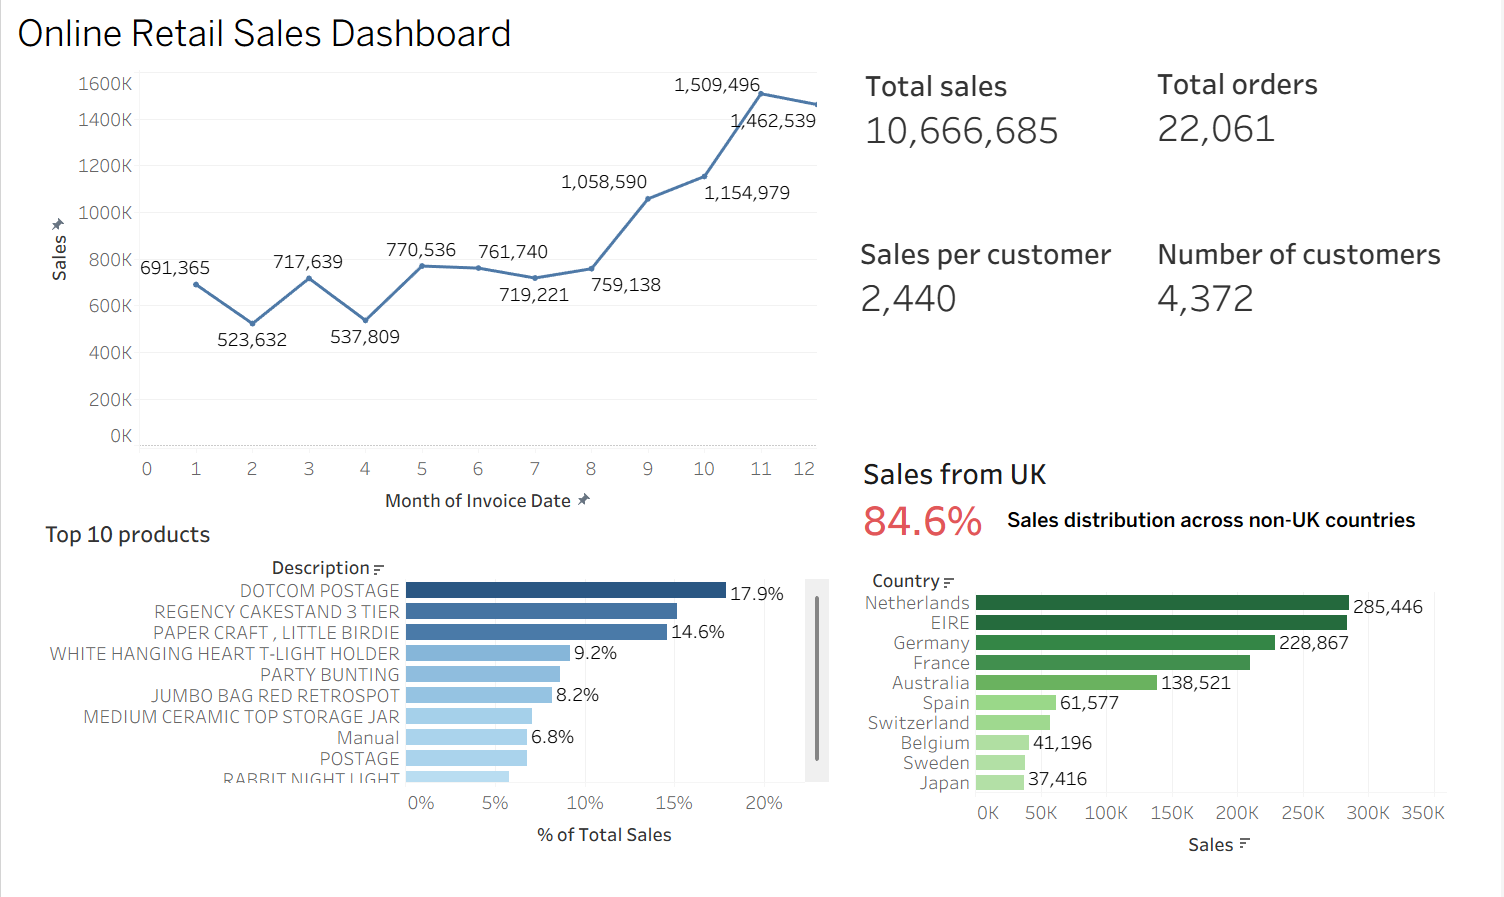

This screenshot's page, from the dashboard's own definition file:
{"tool":"tableau","page":{"name":"Dashboard","canvas":[1500,900],"ordinal":0},"visuals":[{"type":"title","box":[8,8,1484,50]},{"type":"worksheet","title":"Total orders","mark":"Automatic","box":[1152,63,259,101]},{"type":"worksheet","title":"Total sales","mark":"Automatic","box":[860,65,226,139]},{"type":"worksheet","title":"Sales over time","mark":"Automatic","rows":["Calculation_107523448491802625"],"cols":["InvoiceDate"],"box":[38,70,778,449]},{"type":"worksheet","title":"Sales per customer","mark":"Automatic","box":[855,233,280,117]},{"type":"worksheet","title":"Number of customers","mark":"Automatic","box":[1152,233,351,115]},{"type":"text","box":[858,426,205,148]},{"type":"text","box":[1002,474,429,93]},{"type":"worksheet","title":"Top 10 products","mark":"Automatic","rows":["Description"],"box":[40,514,788,339]},{"type":"worksheet","title":"sales across countries","mark":"Automatic","rows":["Country"],"cols":["Calculation_107523448491802625"],"box":[854,572,592,299]}]}

Visuals, with their boxes in screenshot pixels (x1, y1, x2, y2), scaled from the page's 1500x900 canvas onto the 1504x897 screenshot:
title: box(8, 8, 1496, 58)
"Total orders" worksheet: box(1155, 63, 1415, 163)
"Total sales" worksheet: box(862, 65, 1089, 203)
"Sales over time" worksheet: box(38, 70, 818, 517)
"Sales per customer" worksheet: box(857, 232, 1138, 349)
"Number of customers" worksheet: box(1155, 232, 1503, 347)
text: box(860, 425, 1066, 572)
text: box(1005, 472, 1435, 565)
"Top 10 products" worksheet: box(40, 512, 830, 850)
"sales across countries" worksheet: box(856, 570, 1450, 868)
